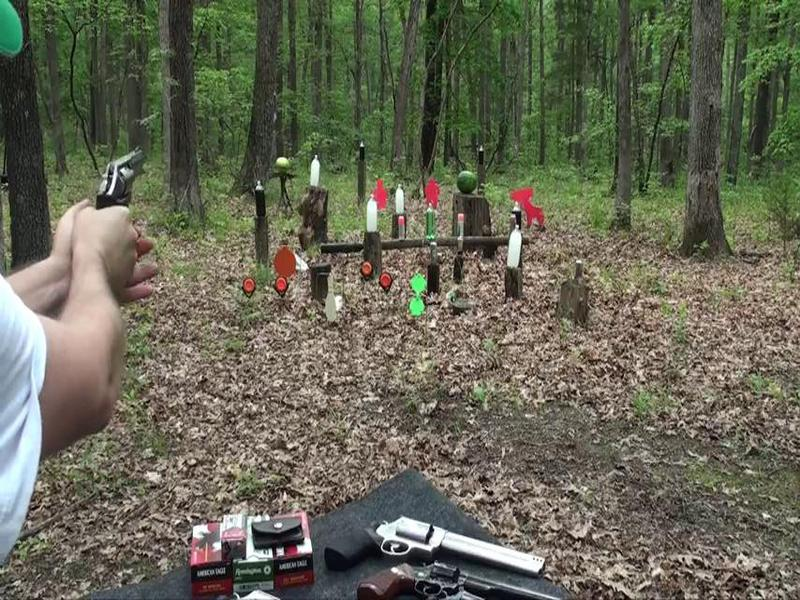Revolver: (81, 134, 155, 234)
